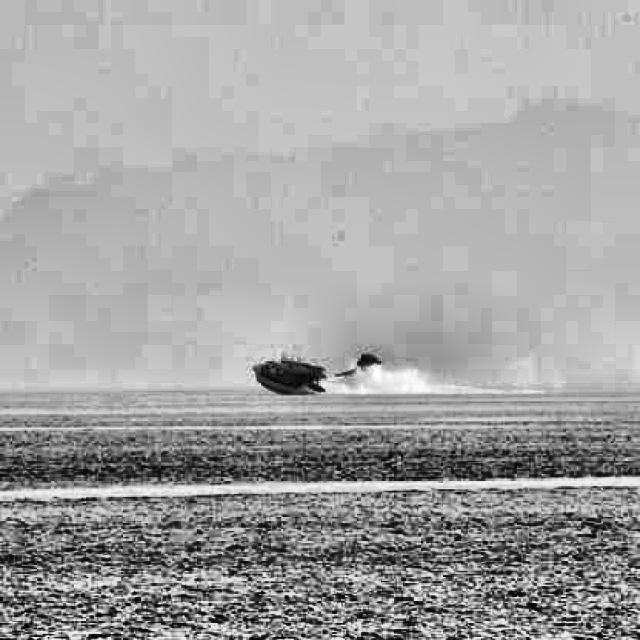US2: (252, 351, 382, 395)
